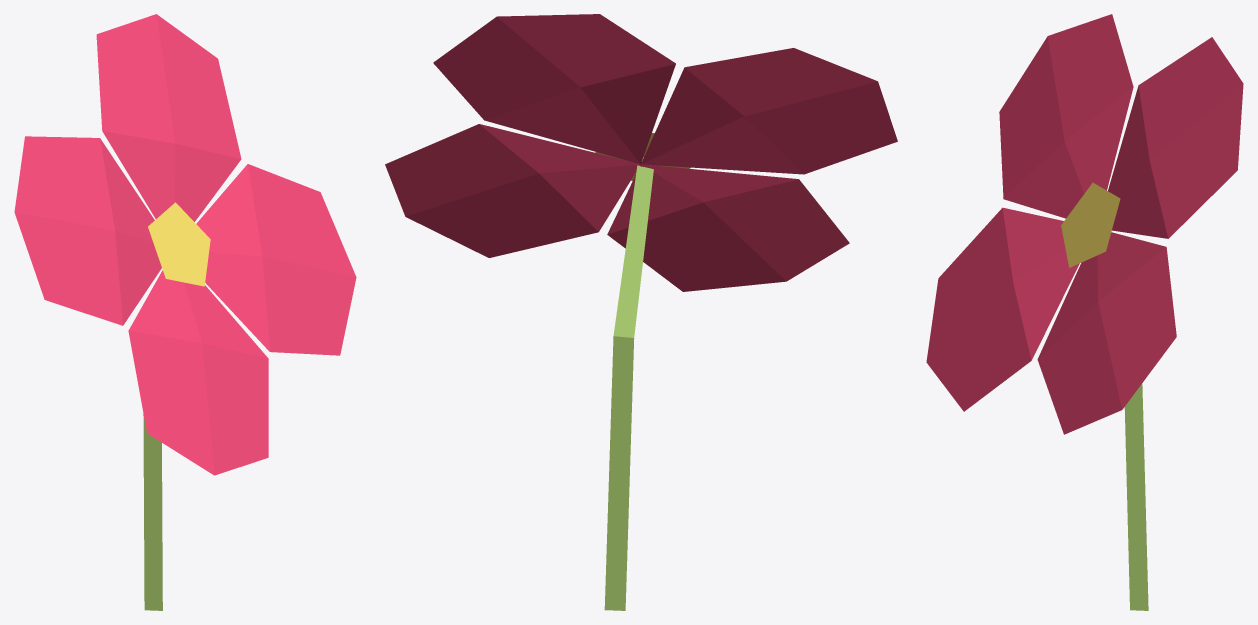
File: Flower_c_TwoS_08.fbx
The picture shows the model from 3 angles, left to right: view 1: azimuth 30°, elevation 25°; view 2: azimuth 150°, elevation 25°; view 3: azimuth 270°, elevation 25°; orthographic projection. The views are drawn at different scales.
Visible parts, largest first — view 1: Flower_c_TwoS_08; view 2: Flower_c_TwoS_08; view 3: Flower_c_TwoS_08.
Boxes of the visible parts, x1,y1,x2,y2 form: Flower_c_TwoS_08: (14, 14, 356, 610); Flower_c_TwoS_08: (385, 14, 897, 610); Flower_c_TwoS_08: (926, 14, 1243, 610).
Size of the model in its own units: 0.2878 by 0.4019 by 0.206.
